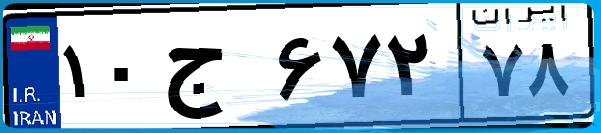0: (110, 28, 158, 98)
1: (57, 26, 110, 100)
2: (385, 28, 445, 110)
6: (270, 28, 330, 110)
7: (330, 28, 385, 110), (475, 38, 525, 113)
8: (525, 38, 570, 115)
ج: (158, 20, 270, 120)
